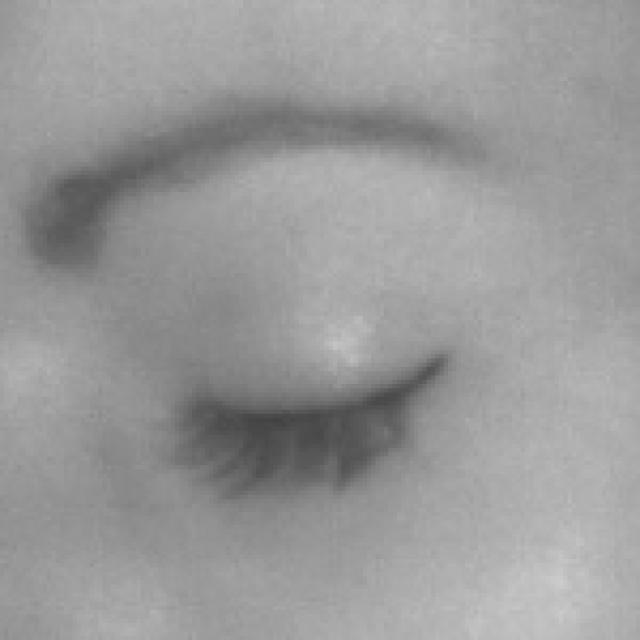close: (0, 64, 606, 589)
